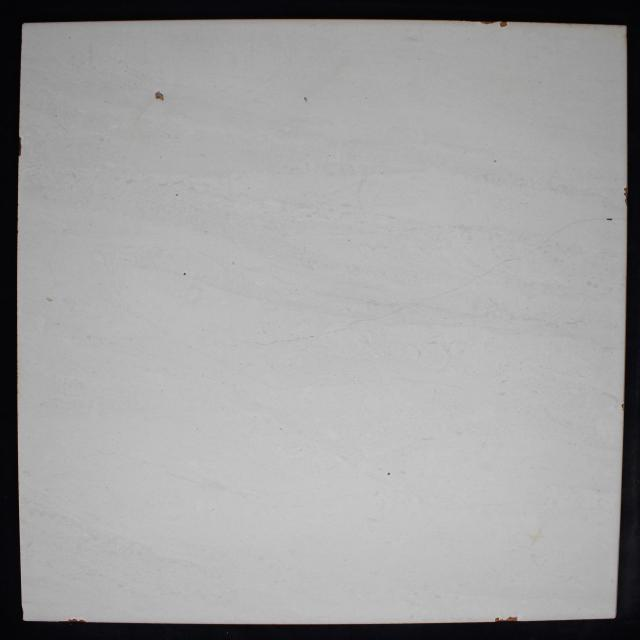edge-chipping: (494, 616, 518, 622), (623, 186, 629, 206), (479, 20, 498, 26), (18, 136, 22, 158), (67, 619, 86, 623), (499, 21, 509, 28), (621, 403, 625, 411)
hole: (154, 91, 165, 101), (303, 96, 309, 103), (182, 271, 187, 277), (493, 158, 497, 164), (386, 472, 391, 476), (175, 193, 179, 197), (607, 218, 612, 221)
line: (455, 250, 537, 291), (358, 289, 454, 324), (245, 323, 354, 345), (539, 218, 605, 250), (613, 216, 627, 221)
